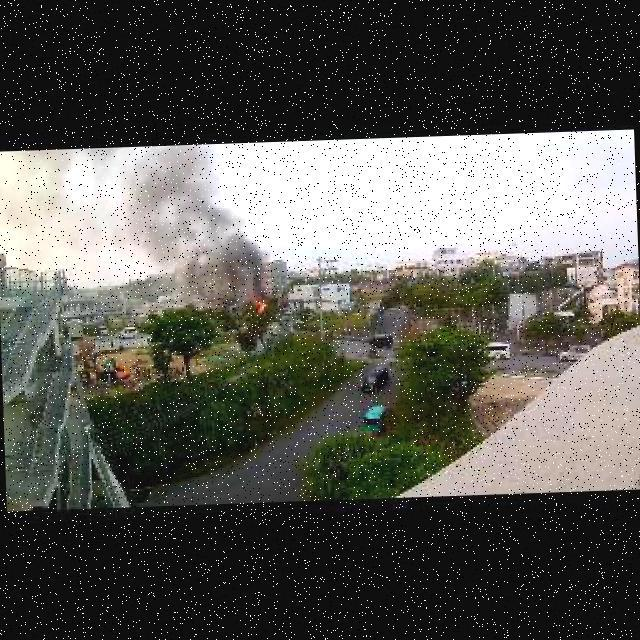Fire: (256, 298, 266, 310)
Smoke: (0, 141, 225, 261), (173, 220, 270, 301)
